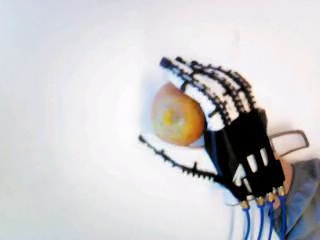apple: (151, 81, 206, 146)
hand: (135, 52, 285, 209)
